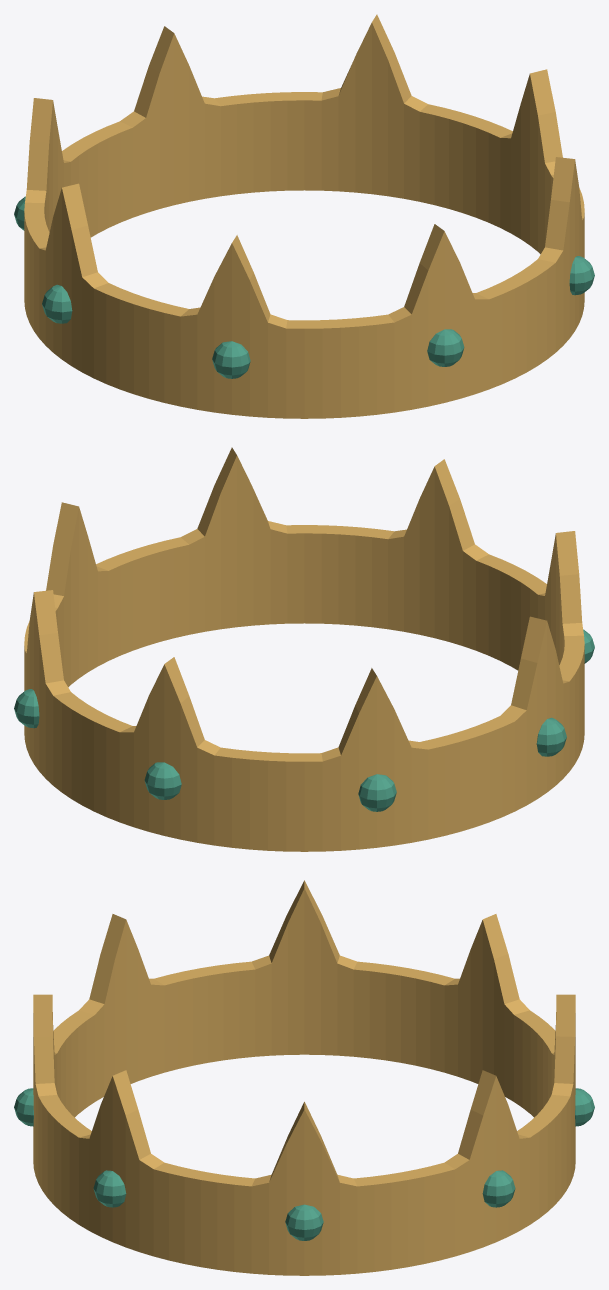
Rendered from crown.glb.
3 views of the same model, one above another, from view 1: azimuth 30°, elevation 25°; view 2: azimuth 150°, elevation 25°; view 3: azimuth 270°, elevation 25° (orthographic). The views are drawn at different scales.
Visible parts, largest first — view 1: Crown, jade accent.005, jade accent.006, jade accent.004, jade accent.007; view 2: Crown, jade accent.003, jade accent.002, jade accent.004, jade accent.001; view 3: Crown, jade accent, jade accent.001, jade accent.007, jade accent.002, jade accent.006.
Boxes of the visible parts, x1=… form: Crown: x1=24, y1=14, x2=584, y2=418; jade accent.005: x1=212, y1=341, x2=250, y2=378; jade accent.006: x1=427, y1=329, x2=464, y2=366; jade accent.004: x1=42, y1=284, x2=72, y2=323; jade accent.007: x1=569, y1=256, x2=594, y2=295; Crown: x1=24, y1=447, x2=584, y2=851; jade accent.003: x1=358, y1=774, x2=396, y2=811; jade accent.002: x1=144, y1=762, x2=181, y2=799; jade accent.004: x1=536, y1=717, x2=566, y2=756; jade accent.001: x1=14, y1=689, x2=39, y2=728; Crown: x1=33, y1=880, x2=575, y2=1275; jade accent: x1=285, y1=1204, x2=323, y2=1240; jade accent.001: x1=482, y1=1170, x2=515, y2=1207; jade accent.007: x1=93, y1=1170, x2=126, y2=1207; jade accent.002: x1=575, y1=1088, x2=594, y2=1126; jade accent.006: x1=14, y1=1088, x2=33, y2=1126.
Bounding box in the file's own units: 0.332 × 0.105 × 0.332.
